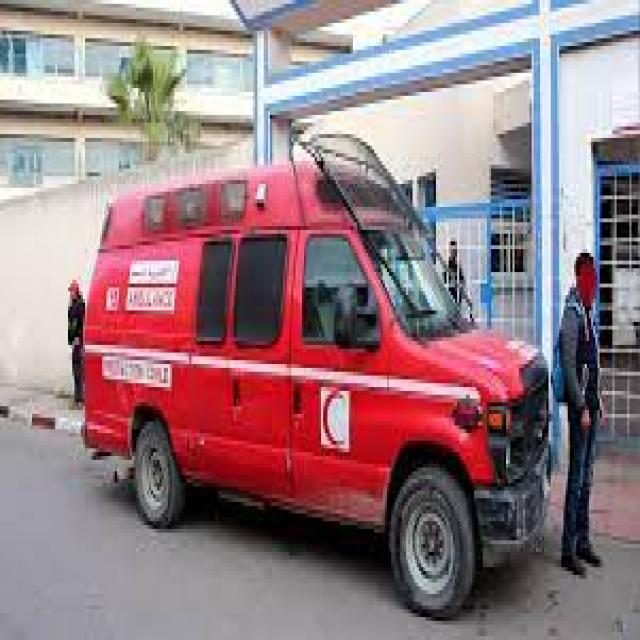ambulance: (80, 149, 550, 609)
